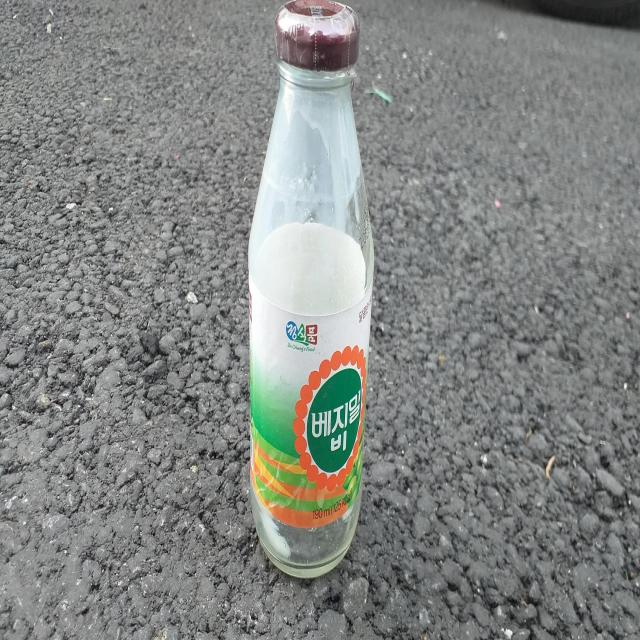glass: (248, 0, 374, 578)
